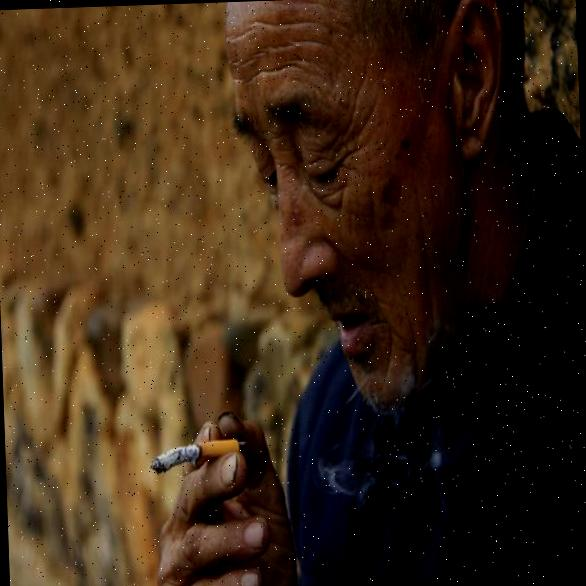smoke: (324, 411, 445, 528)
